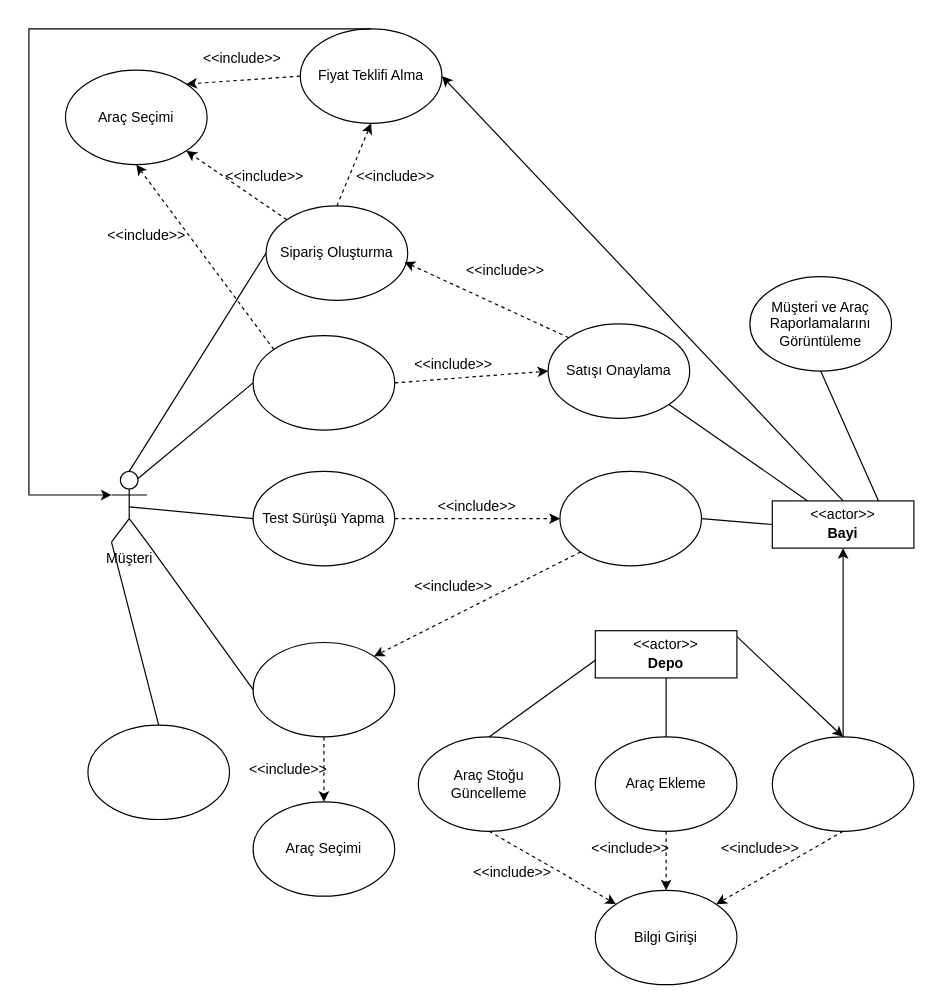
Image size: 935x1005. Some labels were removed from this diagram. Each missing label, with the centre of its shape:
Aracı Satın Alma: the point at 323,382
Araç Çekme: the point at 842,783
Stoktaki Araçları Sorgulama: the point at 158,772
Test Sürüşü Onaylama: the point at 630,518
Test Sürüşü Talep Etme: the point at 323,689
